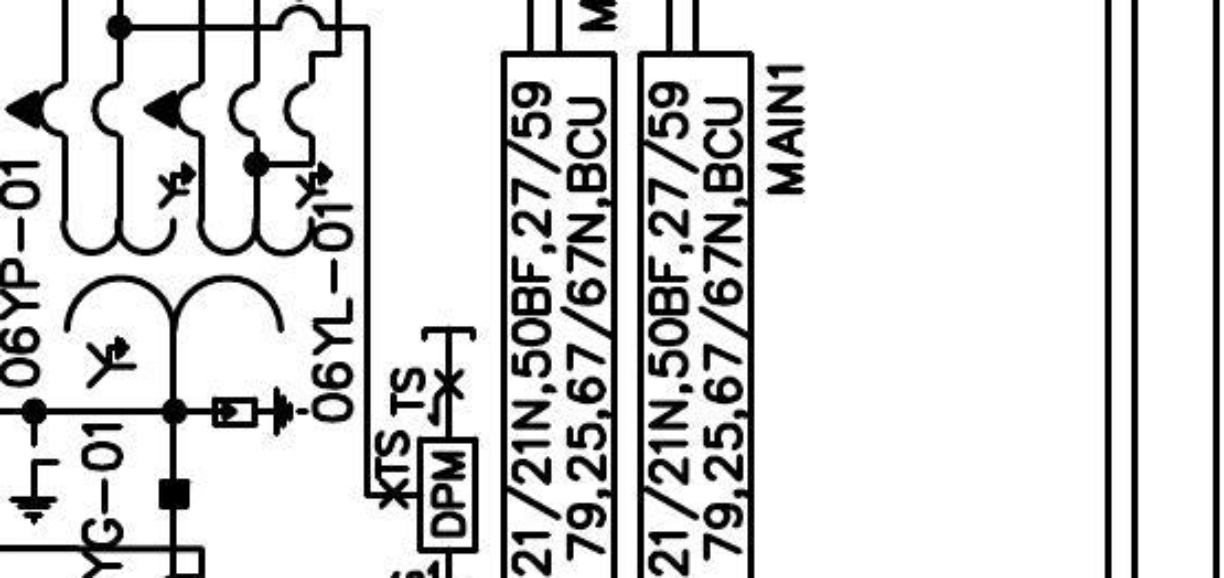115_gs: (6, 437, 62, 528)
115_la: (211, 385, 311, 439)
115_vt_3p: (3, 79, 334, 391)
DPM: (416, 436, 480, 554)
